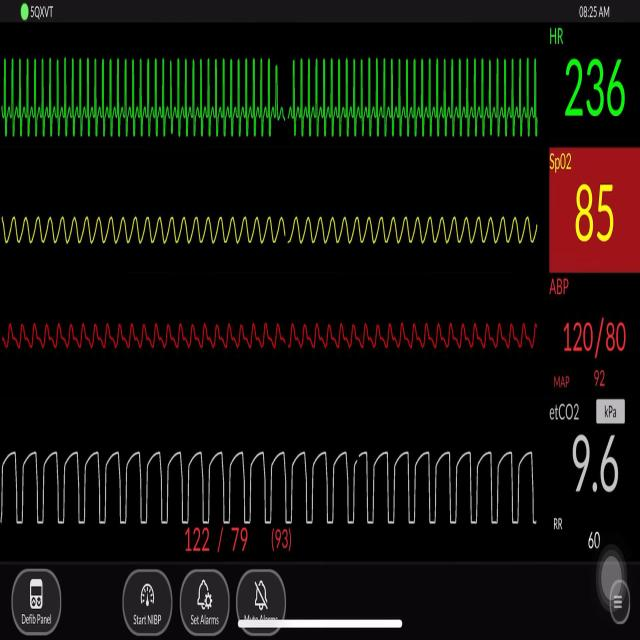danger: (9, 49, 279, 146), (284, 52, 545, 142)
